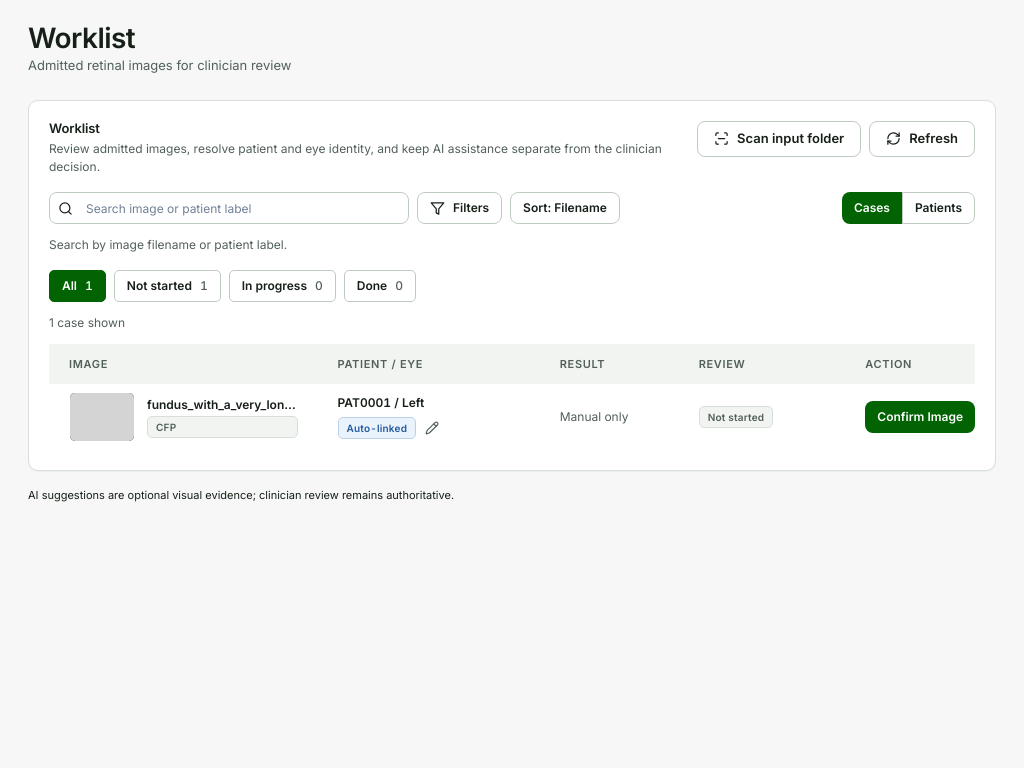
Test case: PRE-S3 Worklist › keeps automatic assignments editable, preloads current values, and preserves manual correction through the resolver API
Click the button named "Edit patient and eye assignment": (432, 428) 420,416 -> 444,440
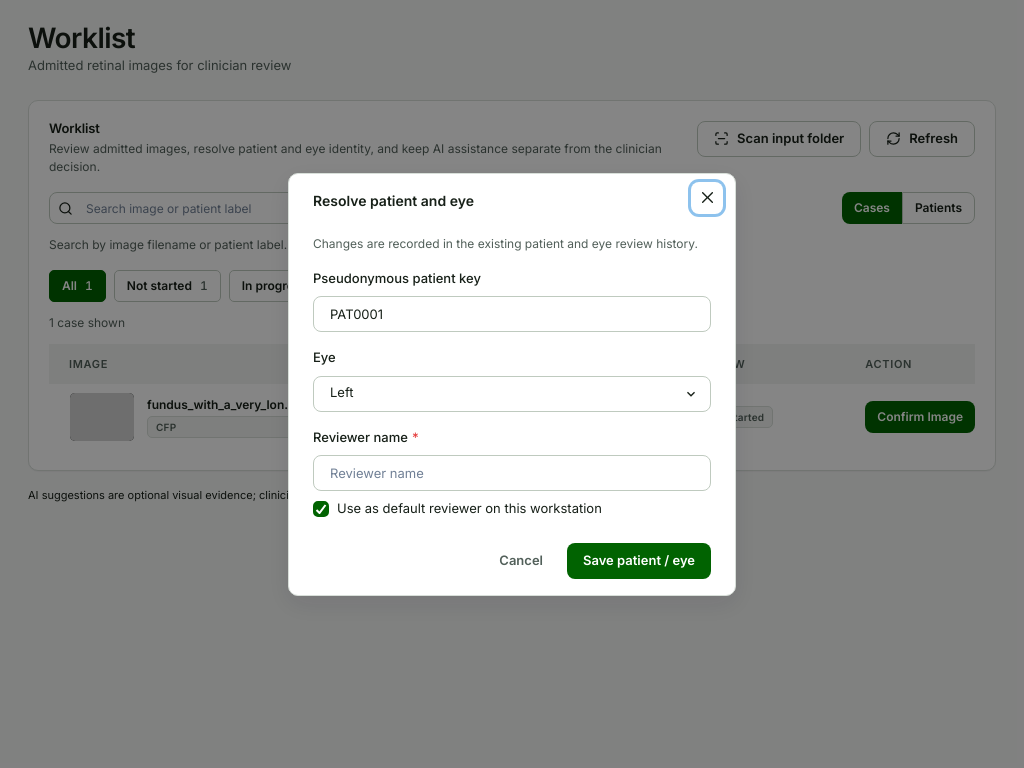
Expected: the field labelled "Pseudonymous patient key" holds "PAT0001"
Expected: the dropdown labelled "Eye" shows "Left", 313,376 -> 711,412
In the field labelled "Pseudonymous patient key": (512, 314) 313,296 -> 711,332, type "PAT0002"
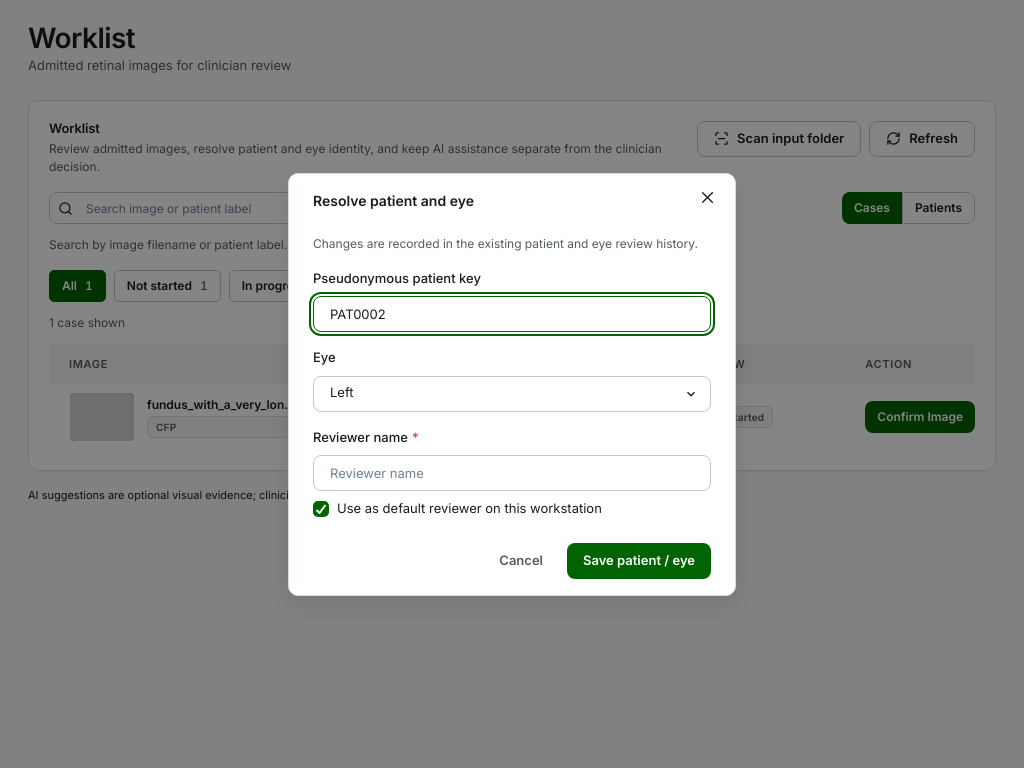
Select "Right" in the dropdown labelled "Eye": (512, 394) 313,376 -> 711,412
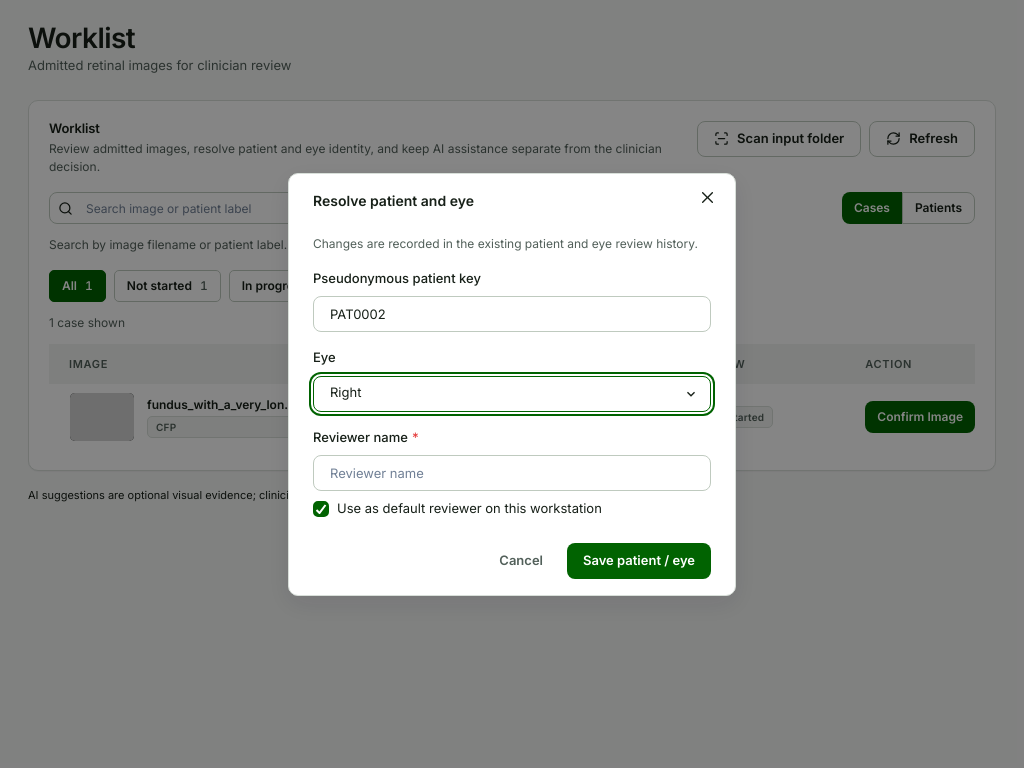
In the field labelled "Reviewer name": (512, 473) 313,455 -> 711,491, type "Clinician"
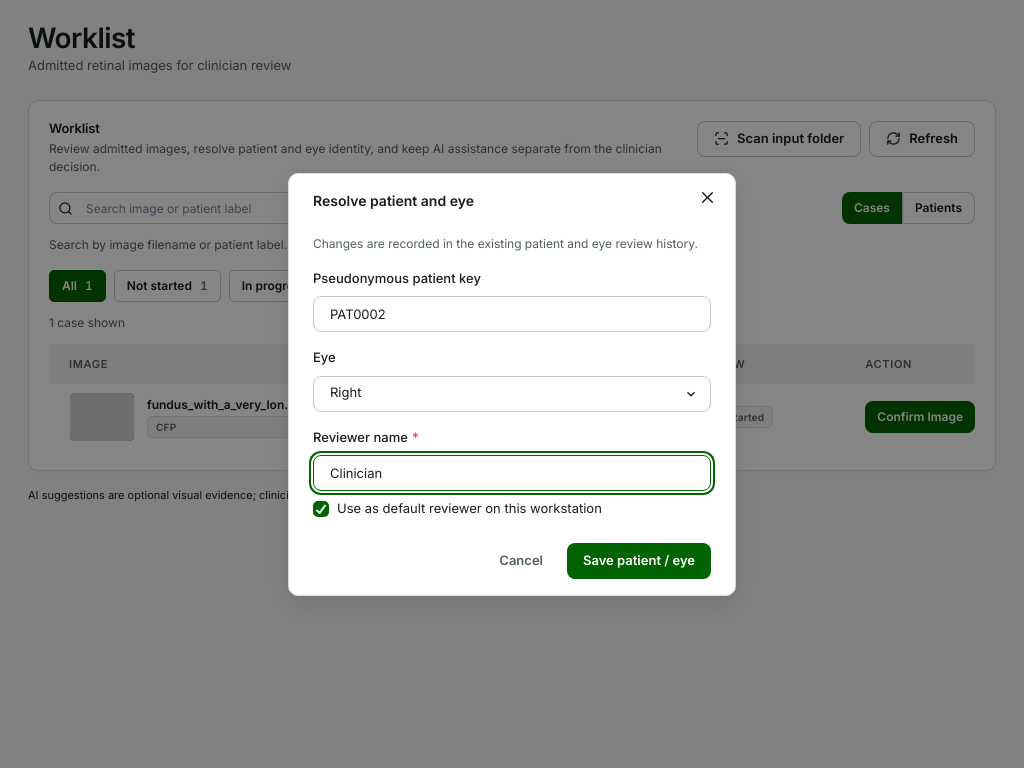
Click the button "Save patient / eye": (639, 560) 567,542 -> 711,578
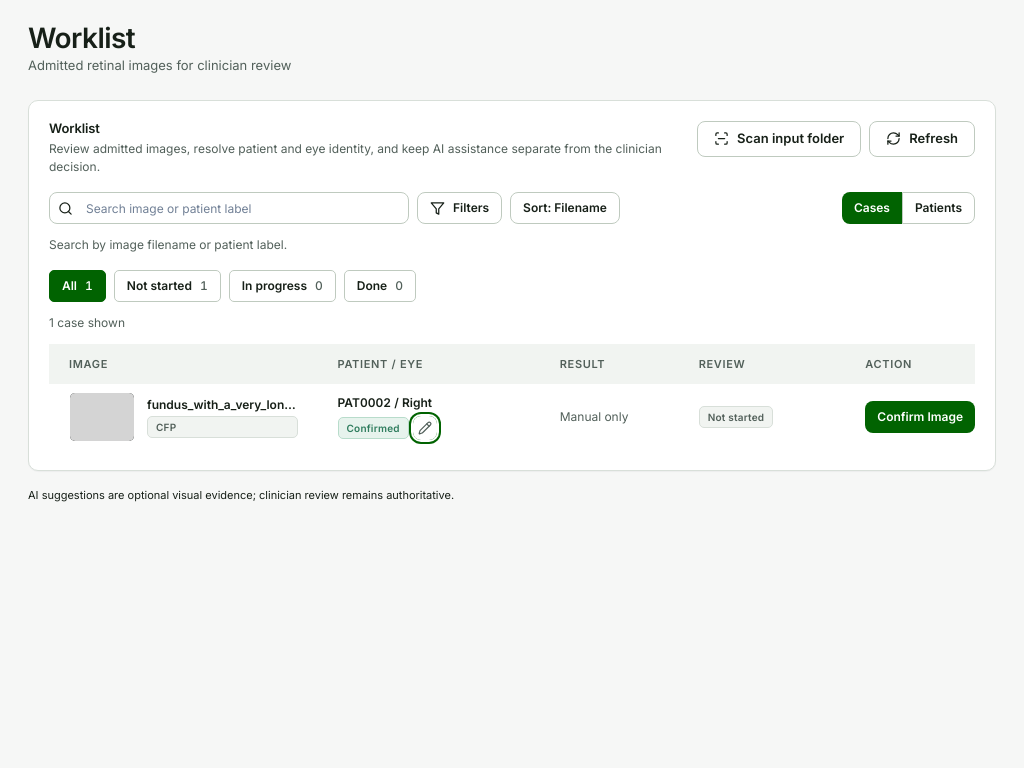
Expected: the text "Confirmed" is shown, 338,417 -> 409,439
